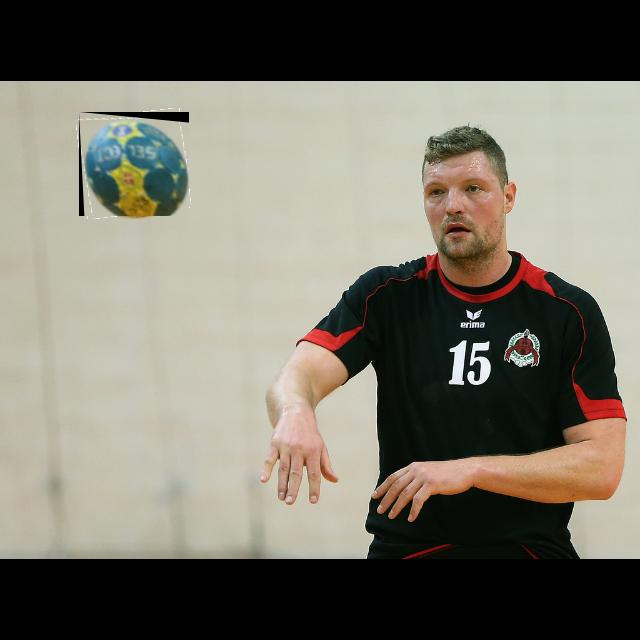Football: (79, 112, 189, 216)
